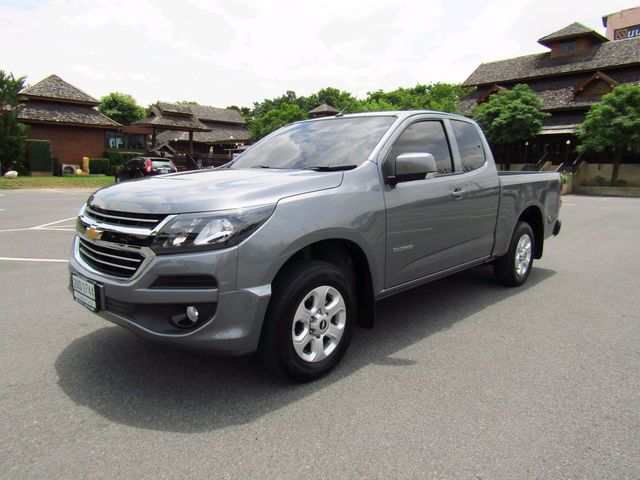pickup: (70, 110, 567, 386)
